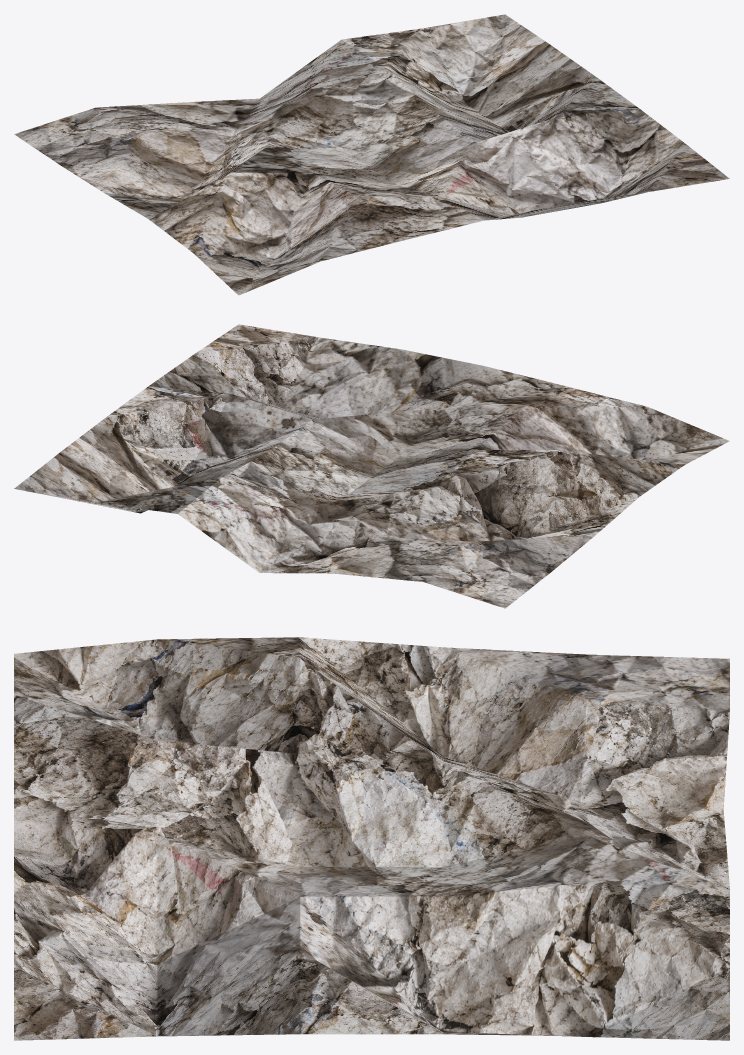
File: PaperINBox.fbx
3 views of the same model, one above another, from view 1: azimuth 30°, elevation 25°; view 2: azimuth 150°, elevation 25°; view 3: azimuth 270°, elevation 25° (orthographic). The views are drawn at different scales.
Visible parts, largest first — view 1: Plane; view 2: Plane; view 3: Plane.
Part boxes in pixels (x1=…): Plane: x1=14, y1=14, x2=729, y2=295; Plane: x1=14, y1=324, x2=729, y2=608; Plane: x1=14, y1=637, x2=729, y2=1040.
Bounding box in the file's own units: 44.9 × 6.77 × 35.57.
